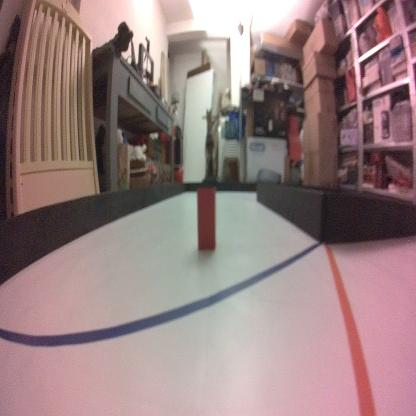red: (197, 186, 215, 251)
